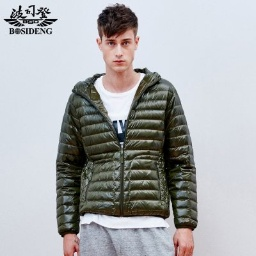face: (92, 3, 141, 74)
